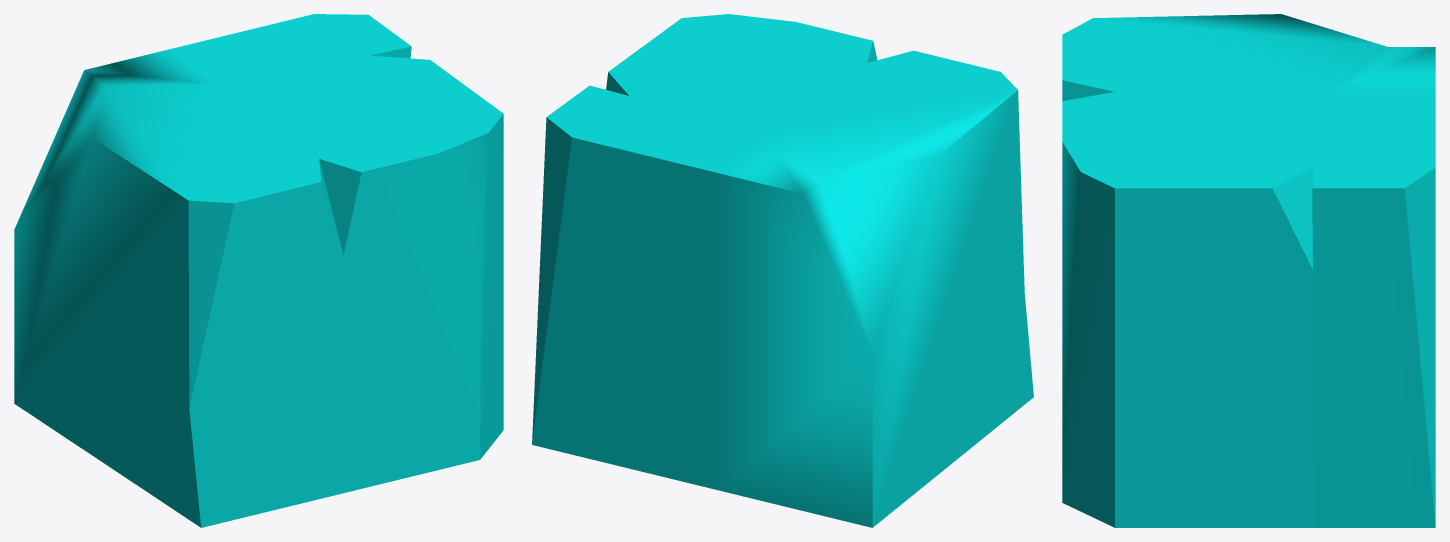
Rendered from Stone.fbx.
3 renders of one model, left to right at view 1: azimuth 30°, elevation 25°; view 2: azimuth 150°, elevation 25°; view 3: azimuth 270°, elevation 25°, orthographic. The views are drawn at different scales.
Parts seen in each view (by area): view 1: pCube15; view 2: pCube15; view 3: pCube15.
Part boxes in pixels (x1,y1,x2,y2): pCube15: (14,14,503,527); pCube15: (532,14,1033,527); pCube15: (1062,14,1435,527).
Size of the model in its own units: 0.8682 by 0.7728 by 0.77.
